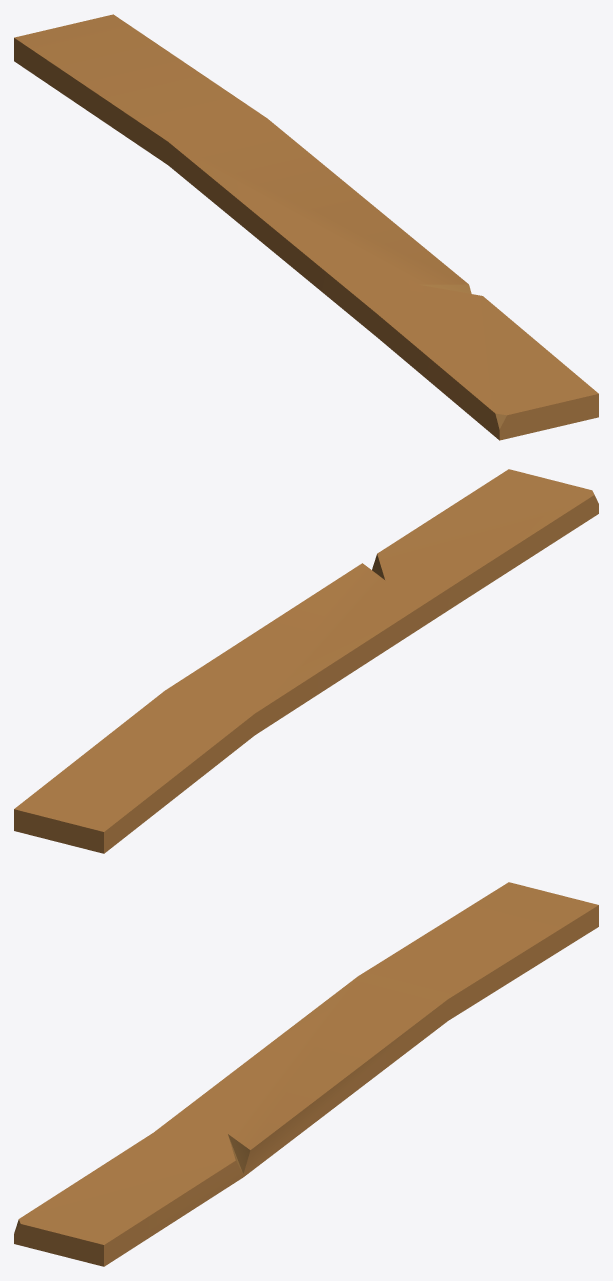
Rendered from Plank_1_3.fbx.
3 renders of one model, top to bottom at view 1: azimuth 30°, elevation 25°; view 2: azimuth 150°, elevation 25°; view 3: azimuth 330°, elevation 25°, orthographic. The views are drawn at different scales.
Visible parts, largest first — view 1: Plank_1_3; view 2: Plank_1_3; view 3: Plank_1_3.
Part boxes in pixels (x1,y1,x2,y2): Plank_1_3: [14, 14, 598, 440]; Plank_1_3: [14, 469, 598, 853]; Plank_1_3: [14, 882, 598, 1266].
Bounding box in the file's own units: 41.66 × 11.88 × 300.
